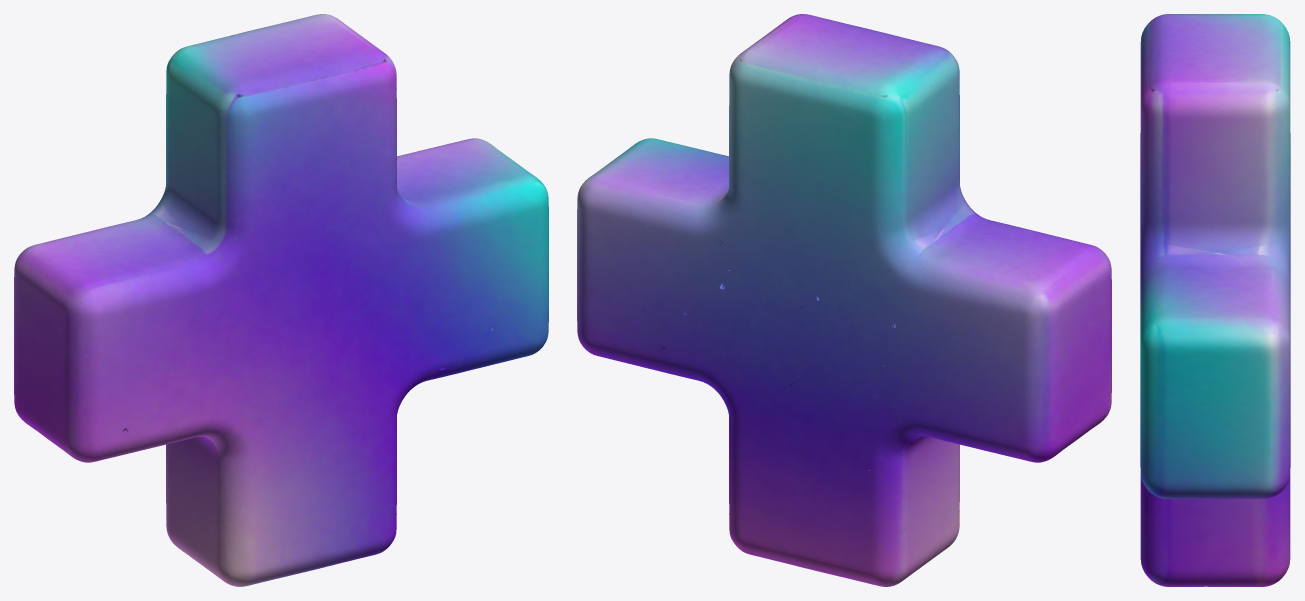
The model's file is plus-icon.glb.
The picture shows the model from 3 angles, left to right: view 1: azimuth 30°, elevation 25°; view 2: azimuth 150°, elevation 25°; view 3: azimuth 270°, elevation 25°; orthographic projection.
Size of the model in its own units: 2 by 2 by 0.5412.
1 material, 1 textured.
